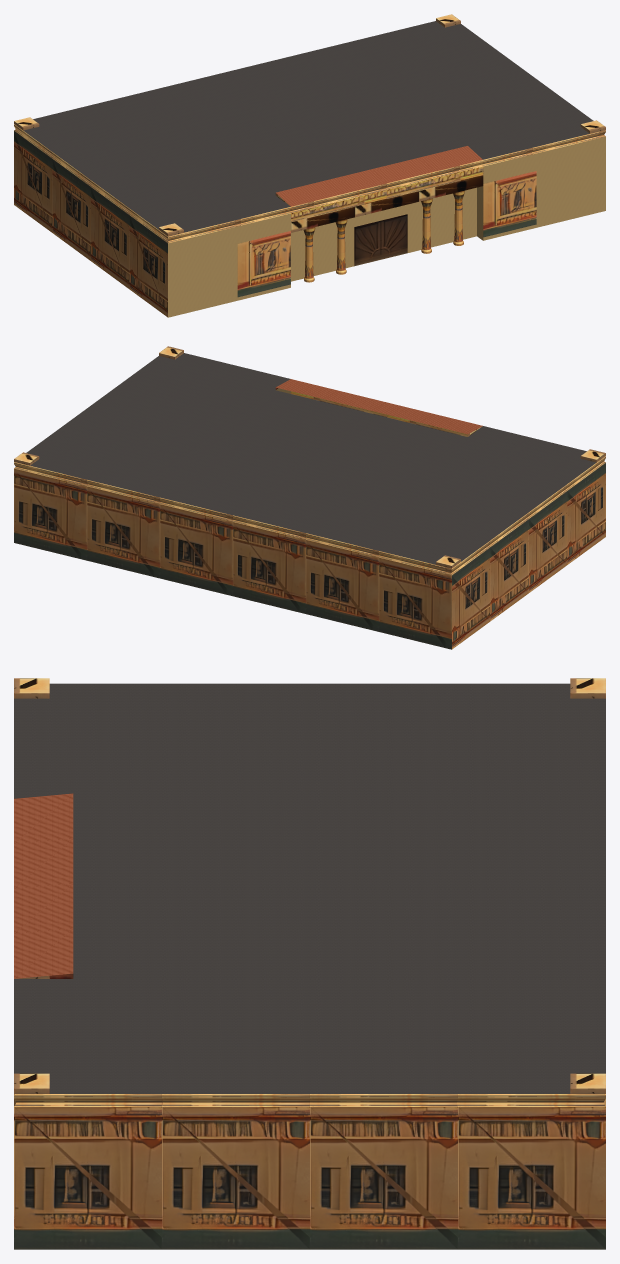
File: LM_Egyptian.fbx
3 views of the same model, one above another, from view 1: azimuth 30°, elevation 25°; view 2: azimuth 150°, elevation 25°; view 3: azimuth 270°, elevation 25° (orthographic). The views are drawn at different scales.
Visible parts, largest first — view 1: LM_Egyptian; view 2: LM_Egyptian; view 3: LM_Egyptian.
Boxes of the visible parts, x1,y1,x2,y2 form: LM_Egyptian: [14, 14, 605, 317]; LM_Egyptian: [14, 346, 605, 649]; LM_Egyptian: [14, 678, 605, 1249].
Bounding box in the file's own units: 82 × 50 × 15.
1 material, 1 textured.
